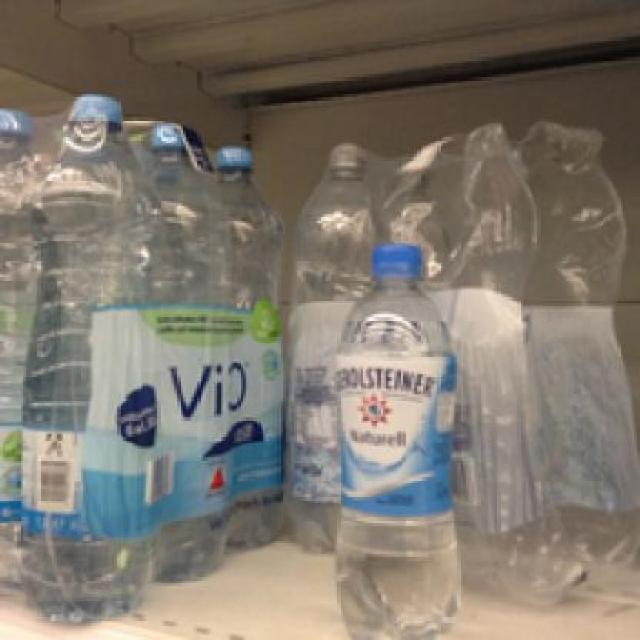Water: (12, 90, 154, 626), (328, 240, 472, 637), (132, 119, 228, 572)
